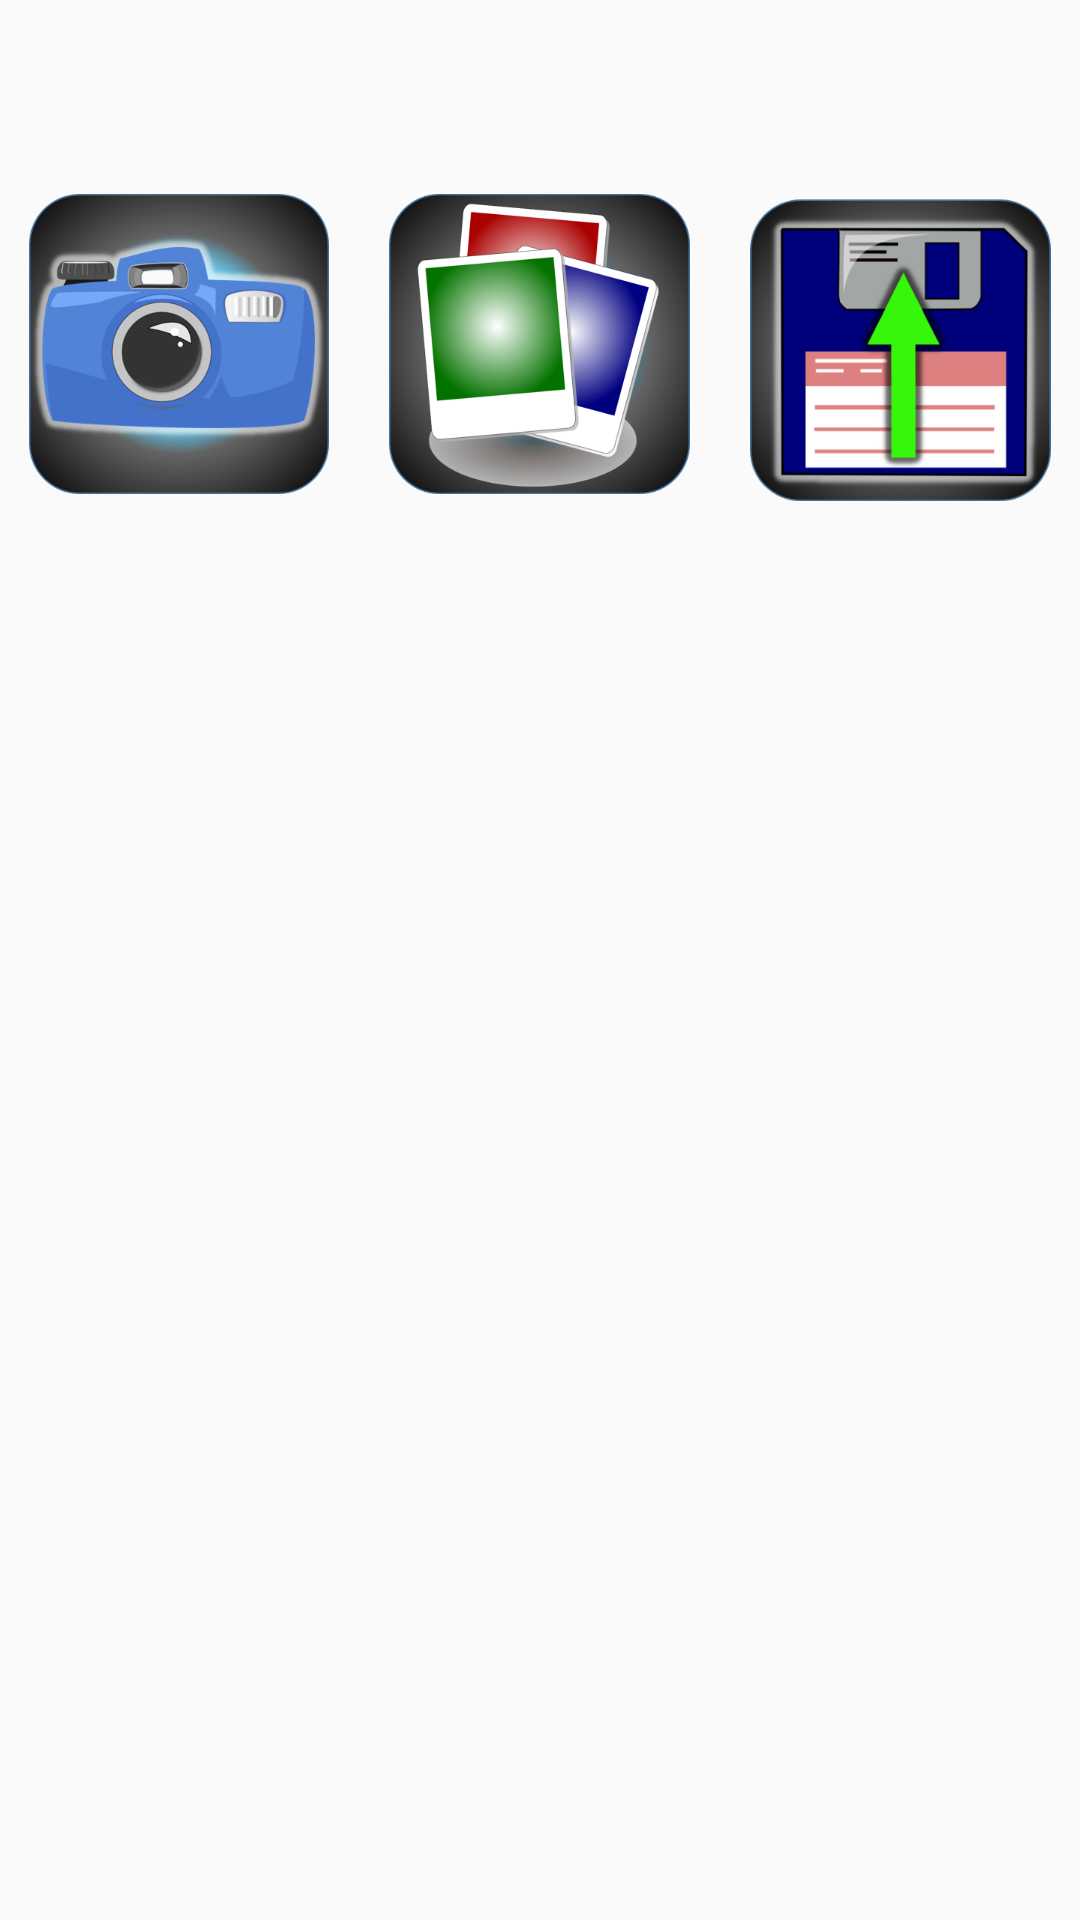

Locate icon controls on the screen. Image size 1080px x 1920px, boxes as (left=x1, top=y1, right=x2, bottom=y2).
camera: (left=29, top=194, right=329, bottom=494)
floppy disk load: (left=750, top=199, right=1051, bottom=501)
gallery: (left=389, top=194, right=690, bottom=494)
